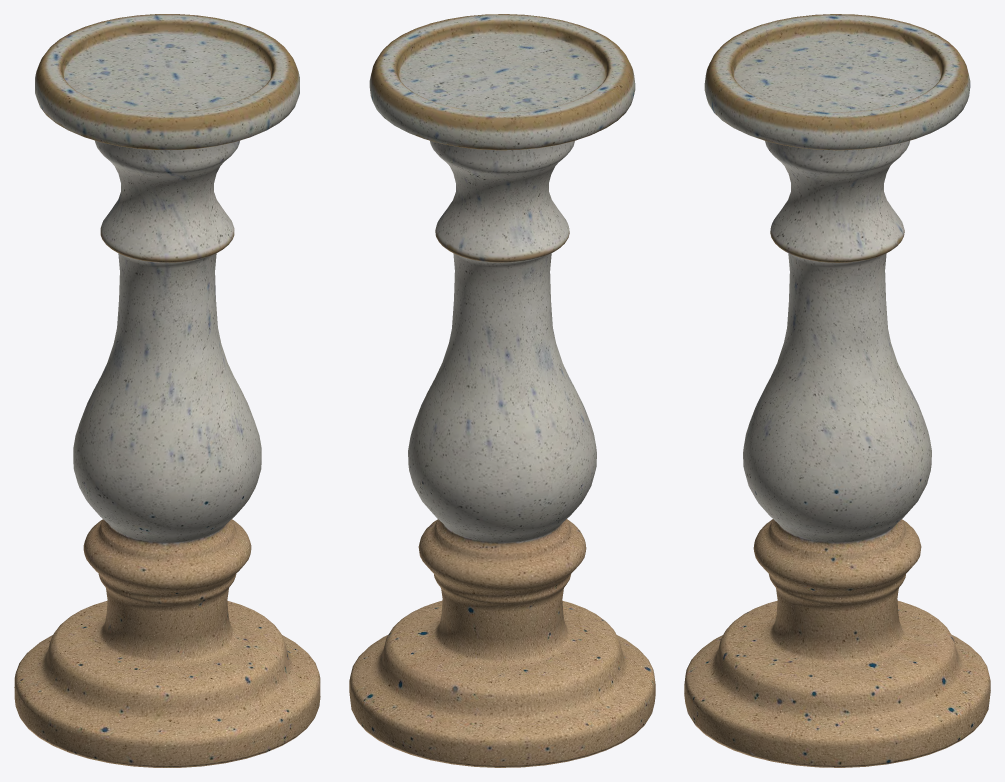
3 renders of one model, left to right at view 1: azimuth 30°, elevation 25°; view 2: azimuth 150°, elevation 25°; view 3: azimuth 270°, elevation 25°, orthographic.
Visible parts, largest first — view 1: RootNode; view 2: RootNode; view 3: RootNode.
Boxes of the visible parts, <box> form: RootNode: <box>14,14,320,767</box>; RootNode: <box>349,14,655,767</box>; RootNode: <box>684,14,990,767</box>.
Size of the model in its own units: 0.0878 by 0.203 by 0.0878.
Materials: 1 (1 with a texture image).
